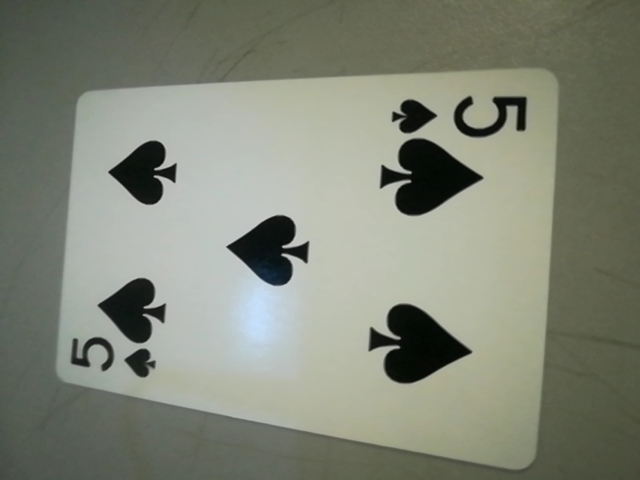ht 5: (382, 88, 536, 146)
